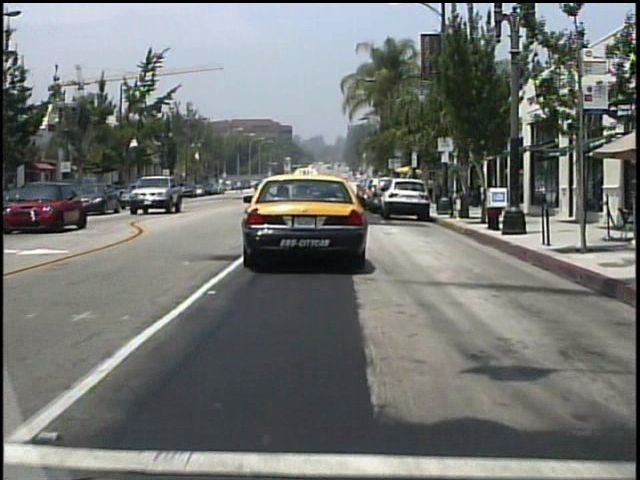person: (427, 176, 434, 199)
